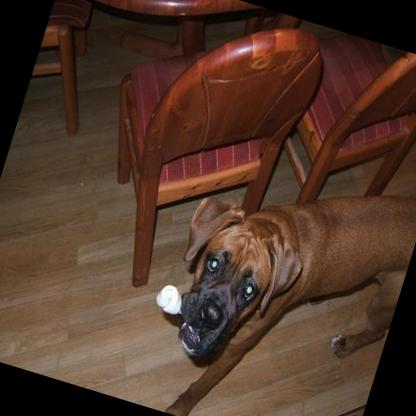boxer: (123, 132, 416, 416)
